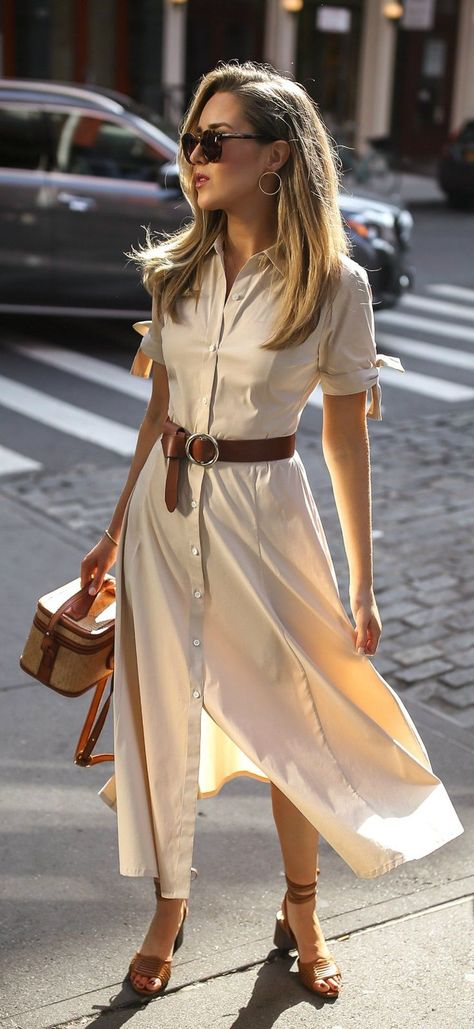person: (78, 60, 385, 1003)
